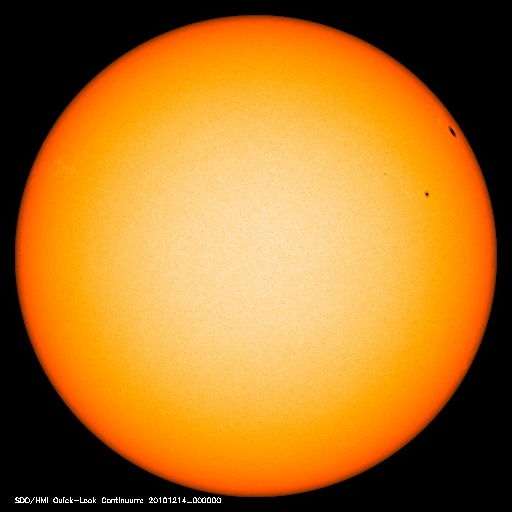sunspot: (438, 113, 469, 150), (412, 178, 442, 208)
